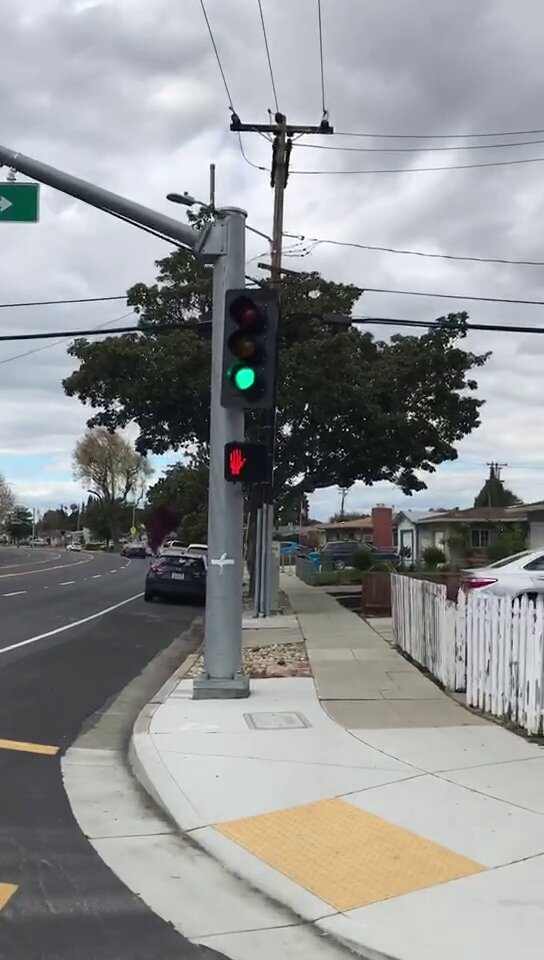green_light: (227, 289, 276, 408)
